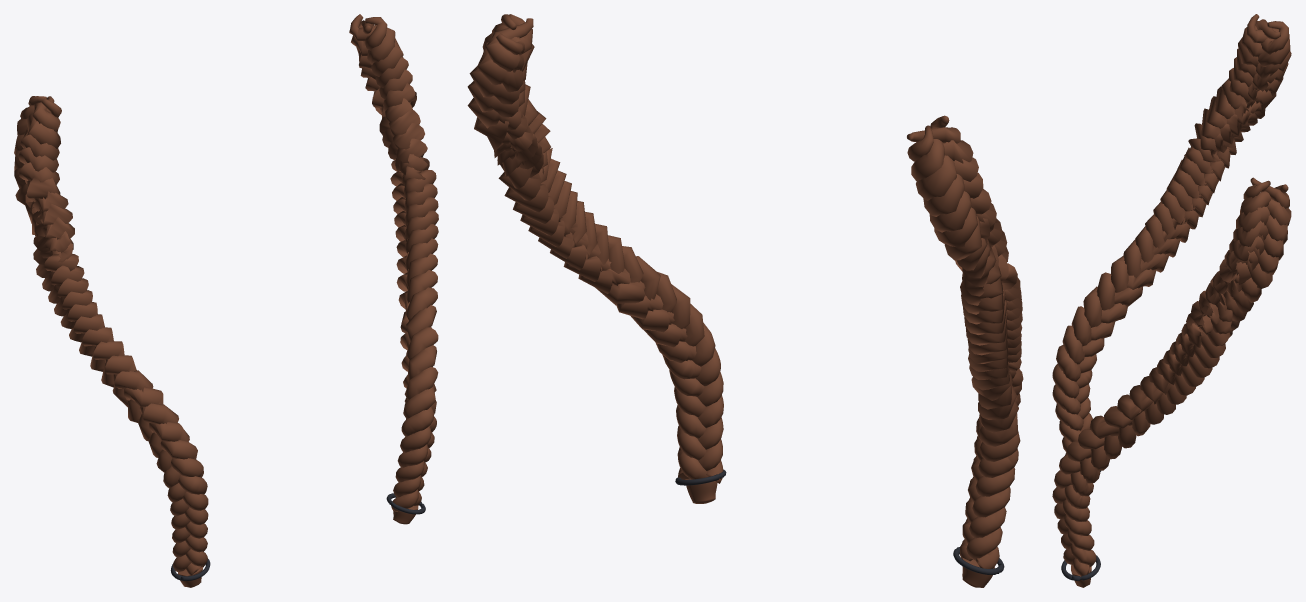
File: twins-none-tshirt-default.glb
The picture shows the model from 3 angles, left to right: view 1: azimuth 30°, elevation 25°; view 2: azimuth 150°, elevation 25°; view 3: azimuth 270°, elevation 25°; orthographic projection. The views are drawn at different scales.
Parts seen in each view (by area): view 1: 226 hairLengths / Hair / chestnut226, 226 hairLengths / Hair / ties226; view 2: 226 hairLengths / Hair / chestnut226, 226 hairLengths / Hair / ties226; view 3: 226 hairLengths / Hair / chestnut226.
Boxes of the visible parts, box(x1,y1,x2,y2) form: 226 hairLengths / Hair / chestnut226: box(14, 14, 438, 587); 226 hairLengths / Hair / ties226: box(170, 493, 425, 580); 226 hairLengths / Hair / chestnut226: box(467, 14, 1023, 587); 226 hairLengths / Hair / ties226: box(675, 469, 1004, 574); 226 hairLengths / Hair / chestnut226: box(1052, 14, 1291, 587).
Bounding box in the file's own units: 0.8712 × 0.9286 × 0.4503.
